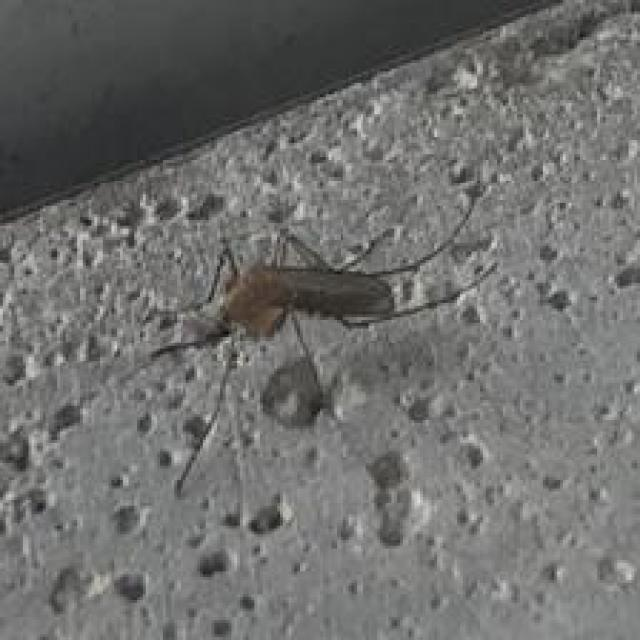Culex: (142, 174, 502, 529)
